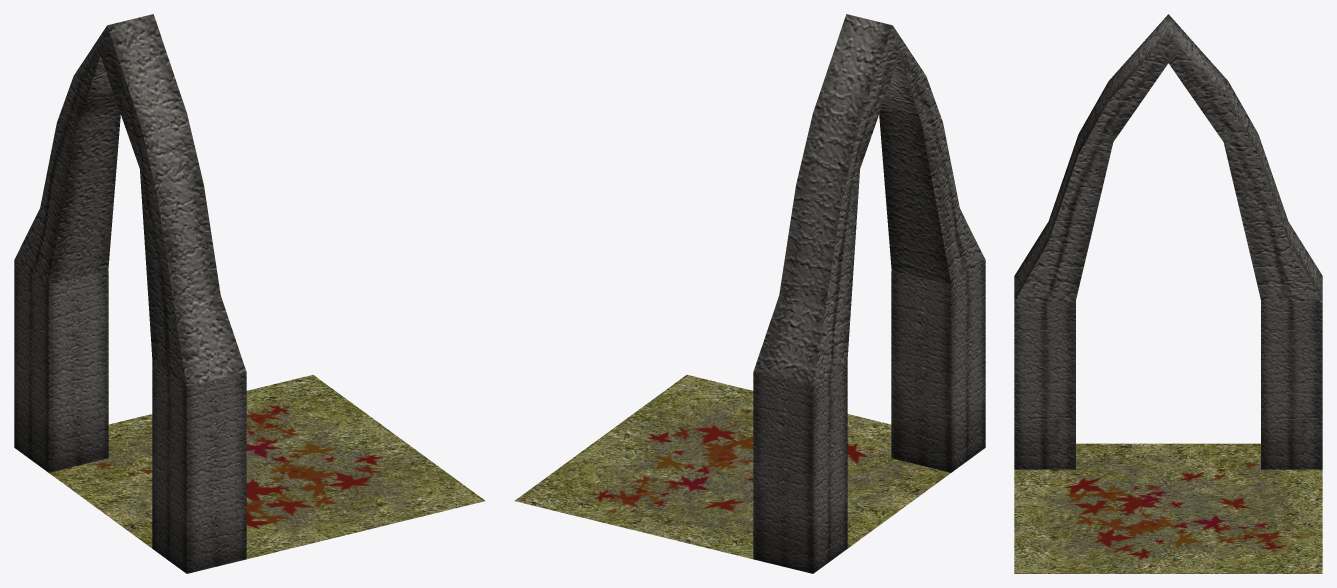
Rendered from 4-5_Teleporter.fbx.
The picture shows the model from 3 angles, left to right: view 1: azimuth 30°, elevation 25°; view 2: azimuth 150°, elevation 25°; view 3: azimuth 270°, elevation 25°; orthographic projection. The views are drawn at different scales.
Parts seen in each view (by area): view 1: pCube6; view 2: pCube6; view 3: pCube6.
Boxes of the visible parts, box(x1,y1,x2,y2) form: pCube6: box(14, 14, 485, 573); pCube6: box(514, 14, 985, 573); pCube6: box(1014, 14, 1322, 573).
Size of the model in its own units: 100 by 155 by 100.
Materials: 1 (1 with a texture image).
